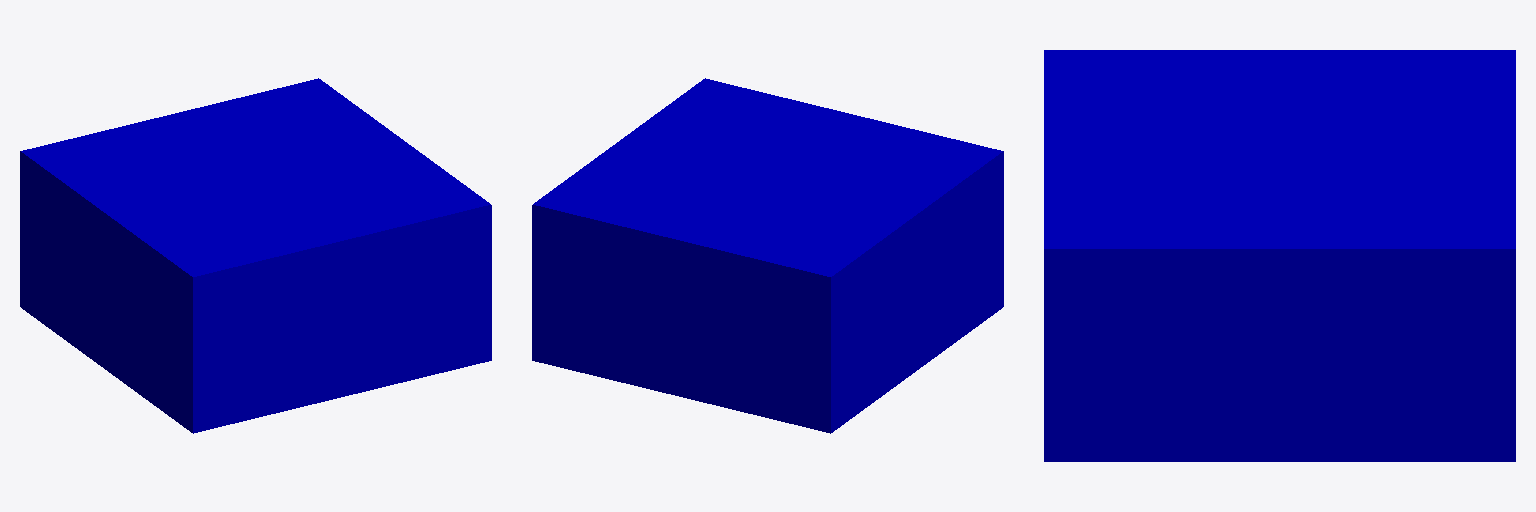
robot.urdf — 10kgbox:
<?xml version="1.0" encoding="utf-8"?>
<robot name="10kgbox">
  <!-- Virtual Joints -->
  <link name="world">
    <inertial>
      <origin xyz="0 0 0" rpy="0 0 0" />
      <mass value="0.00000001" />
      <inertia ixx="0.00000001" ixy="0.00000001" ixz="0.00000001" iyy="0.00000001" iyz="0.00000001" izz="0.00000001" />
    </inertial>
  </link>
  <link name="basePosX">
    <inertial>
      <origin xyz="0 0 0" rpy="0 0 0" />
      <mass value="0.00000001" />
      <inertia ixx="0.00000001" ixy="0.00000001" ixz="0.00000001" iyy="0.00000001" iyz="0.00000001" izz="0.00000001" />
    </inertial>
  </link>
  <joint name="basePosX" type="prismatic">
    <origin xyz="0 0 0" rpy="0 0 0" />
    <parent link="world" />
    <child link="basePosX" />
    <axis xyz="1 0 0" />
    <limit effort="200.0" velocity="100.0" lower="-200." upper="200." />
  </joint>
  <link name="basePosY">
    <inertial>
      <origin xyz="0 0 0" rpy="0 0 0" />
      <mass value="0.00000001" />
      <inertia ixx="0.00000001" ixy="0.00000001" ixz="0.00000001" iyy="0.00000001" iyz="0.00000001" izz="0.00000001" />
    </inertial>
  </link>
  <joint name="basePosY" type="prismatic">
    <origin xyz="0 0 0" rpy="0 0 0" />
    <parent link="basePosX" />
    <child link="basePosY" />
    <axis xyz="0 1 0" />
    <limit effort="200.0" velocity="100.0" lower="-200." upper="200." />
  </joint>

  <link name="basePosZ">
    <inertial>
      <origin xyz="0 0 0" rpy="0 0 0" />
      <mass value="0.00000001" />
      <inertia ixx="0.00000001" ixy="0.00000001" ixz="0.00000001" iyy="0.00000001" iyz="0.00000001" izz="0.00000001" />
    </inertial>
  </link>
  <joint name="basePosZ" type="prismatic">
    <origin xyz="0 0 0" rpy="0 0 0" />
    <parent link="basePosY" />
    <child link="basePosZ" />
    <axis xyz="0 0 1" />
    <limit effort="200.0" velocity="100.0" lower="-200." upper="200." />
  </joint>

  <link name="baseRotZ">
    <inertial>
      <origin xyz="0 0 0" rpy="0 0 0" />
      <mass value="0.00000001" />
      <inertia ixx="0.00000001" ixy="0.00000001" ixz="0.00000001" iyy="0.00000001" iyz="0.00000001" izz="0.00000001" />
    </inertial>
  </link>
  <joint name="baseRotZ" type="continuous">
    <origin xyz="0 0 0" rpy="0 0 0" />
    <parent link="basePosZ" />
    <child link="baseRotZ" />
    <axis xyz="0 0 1" />
  </joint>

  <link name="baseRotY">
    <inertial>
      <origin xyz="0 0 0" rpy="0 0 0" />
      <mass value="0.00000001" />
      <inertia ixx="0.00000001" ixy="0.00000001" ixz="0.00000001" iyy="0.00000001" iyz="0.00000001" izz="0.00000001" />
    </inertial>
  </link>
  <joint name="baseRotY" type="continuous">
    <origin xyz="0 0 0" rpy="0 0 0" />
    <parent link="baseRotZ" />
    <child link="baseRotY" />
    <axis xyz="0 1 0" />
  </joint>

  <!-- BOX -->
  <link name="base">
    <visual>
      <geometry>
        <box size="0.2 0.2 0.1"/>
      </geometry>
      <material name="blue">
        <color rgba="0 0 .8 1"/>
      </material>
    </visual>
    <collision>
      <geometry>
        <box size="0.2 0.2 0.1"/>
      </geometry>
    </collision>
    <inertial>
      <mass value="10"/>
      <inertia ixx="0.4" ixy="0.0" ixz="0.0" iyy="0.4" iyz="0.0" izz="0.4"/>
    </inertial>
  </link>
  <joint name="baseRotX" type="continuous">
    <parent link="baseRotY"/>
    <child link="base"/>
    <origin rpy="0 0 0" xyz="0 0 0"/>
    <axis xyz="1 0 0" />
  </joint>

  <!-- virtual link for frame -->

  <link name="boxCOP">
    <inertial>
      <origin rpy="0 0 0" xyz="0 0 0" />
      <mass value="0.000001" />
      <inertia ixx="1E-9" ixy="1E-9" ixz="1E-9" iyy="1E-9" iyz="1E-9" izz="1E-9" />
    </inertial>
  </link>
  <joint name="boxCOMtoCOP" type="fixed">
    <parent link="base"/>
    <child link="boxCOP"/>
    <origin rpy="0 0 0" xyz="0 0 -0.05"/>
    <!--origin rpy="0 0 0.7854" xyz="0 0 -0.05"/-->
  </joint>
</robot>

--- What the picture shows (computed from the rendered views, not written in the file) ---
The picture shows the robot from 3 angles, left to right: view 1: azimuth 30°, elevation 25°; view 2: azimuth 150°, elevation 25°; view 3: azimuth 270°, elevation 25°; orthographic projection.
Robot: 10kgbox — 8 links, 7 joints (3 continuous, 3 prismatic, 1 fixed); root link world; default pose: all joints at 0.
Links seen in each view (by area): view 1: base; view 2: base; view 3: base.
Link boxes in pixels (x1=…): base: x1=20, y1=78, x2=491, y2=433; base: x1=532, y1=78, x2=1003, y2=433; base: x1=1044, y1=50, x2=1515, y2=461.
Bounding box of the posed robot: 0.2 × 0.2 × 0.1 m (x, y, z).
Geometry: primitives only (box / cylinder / sphere), no mesh files.